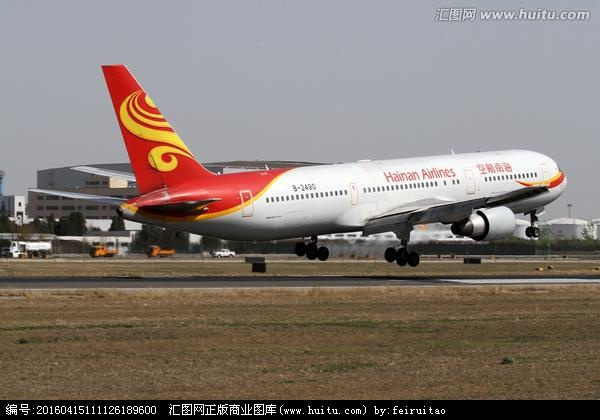airplane: (21, 63, 567, 269)
